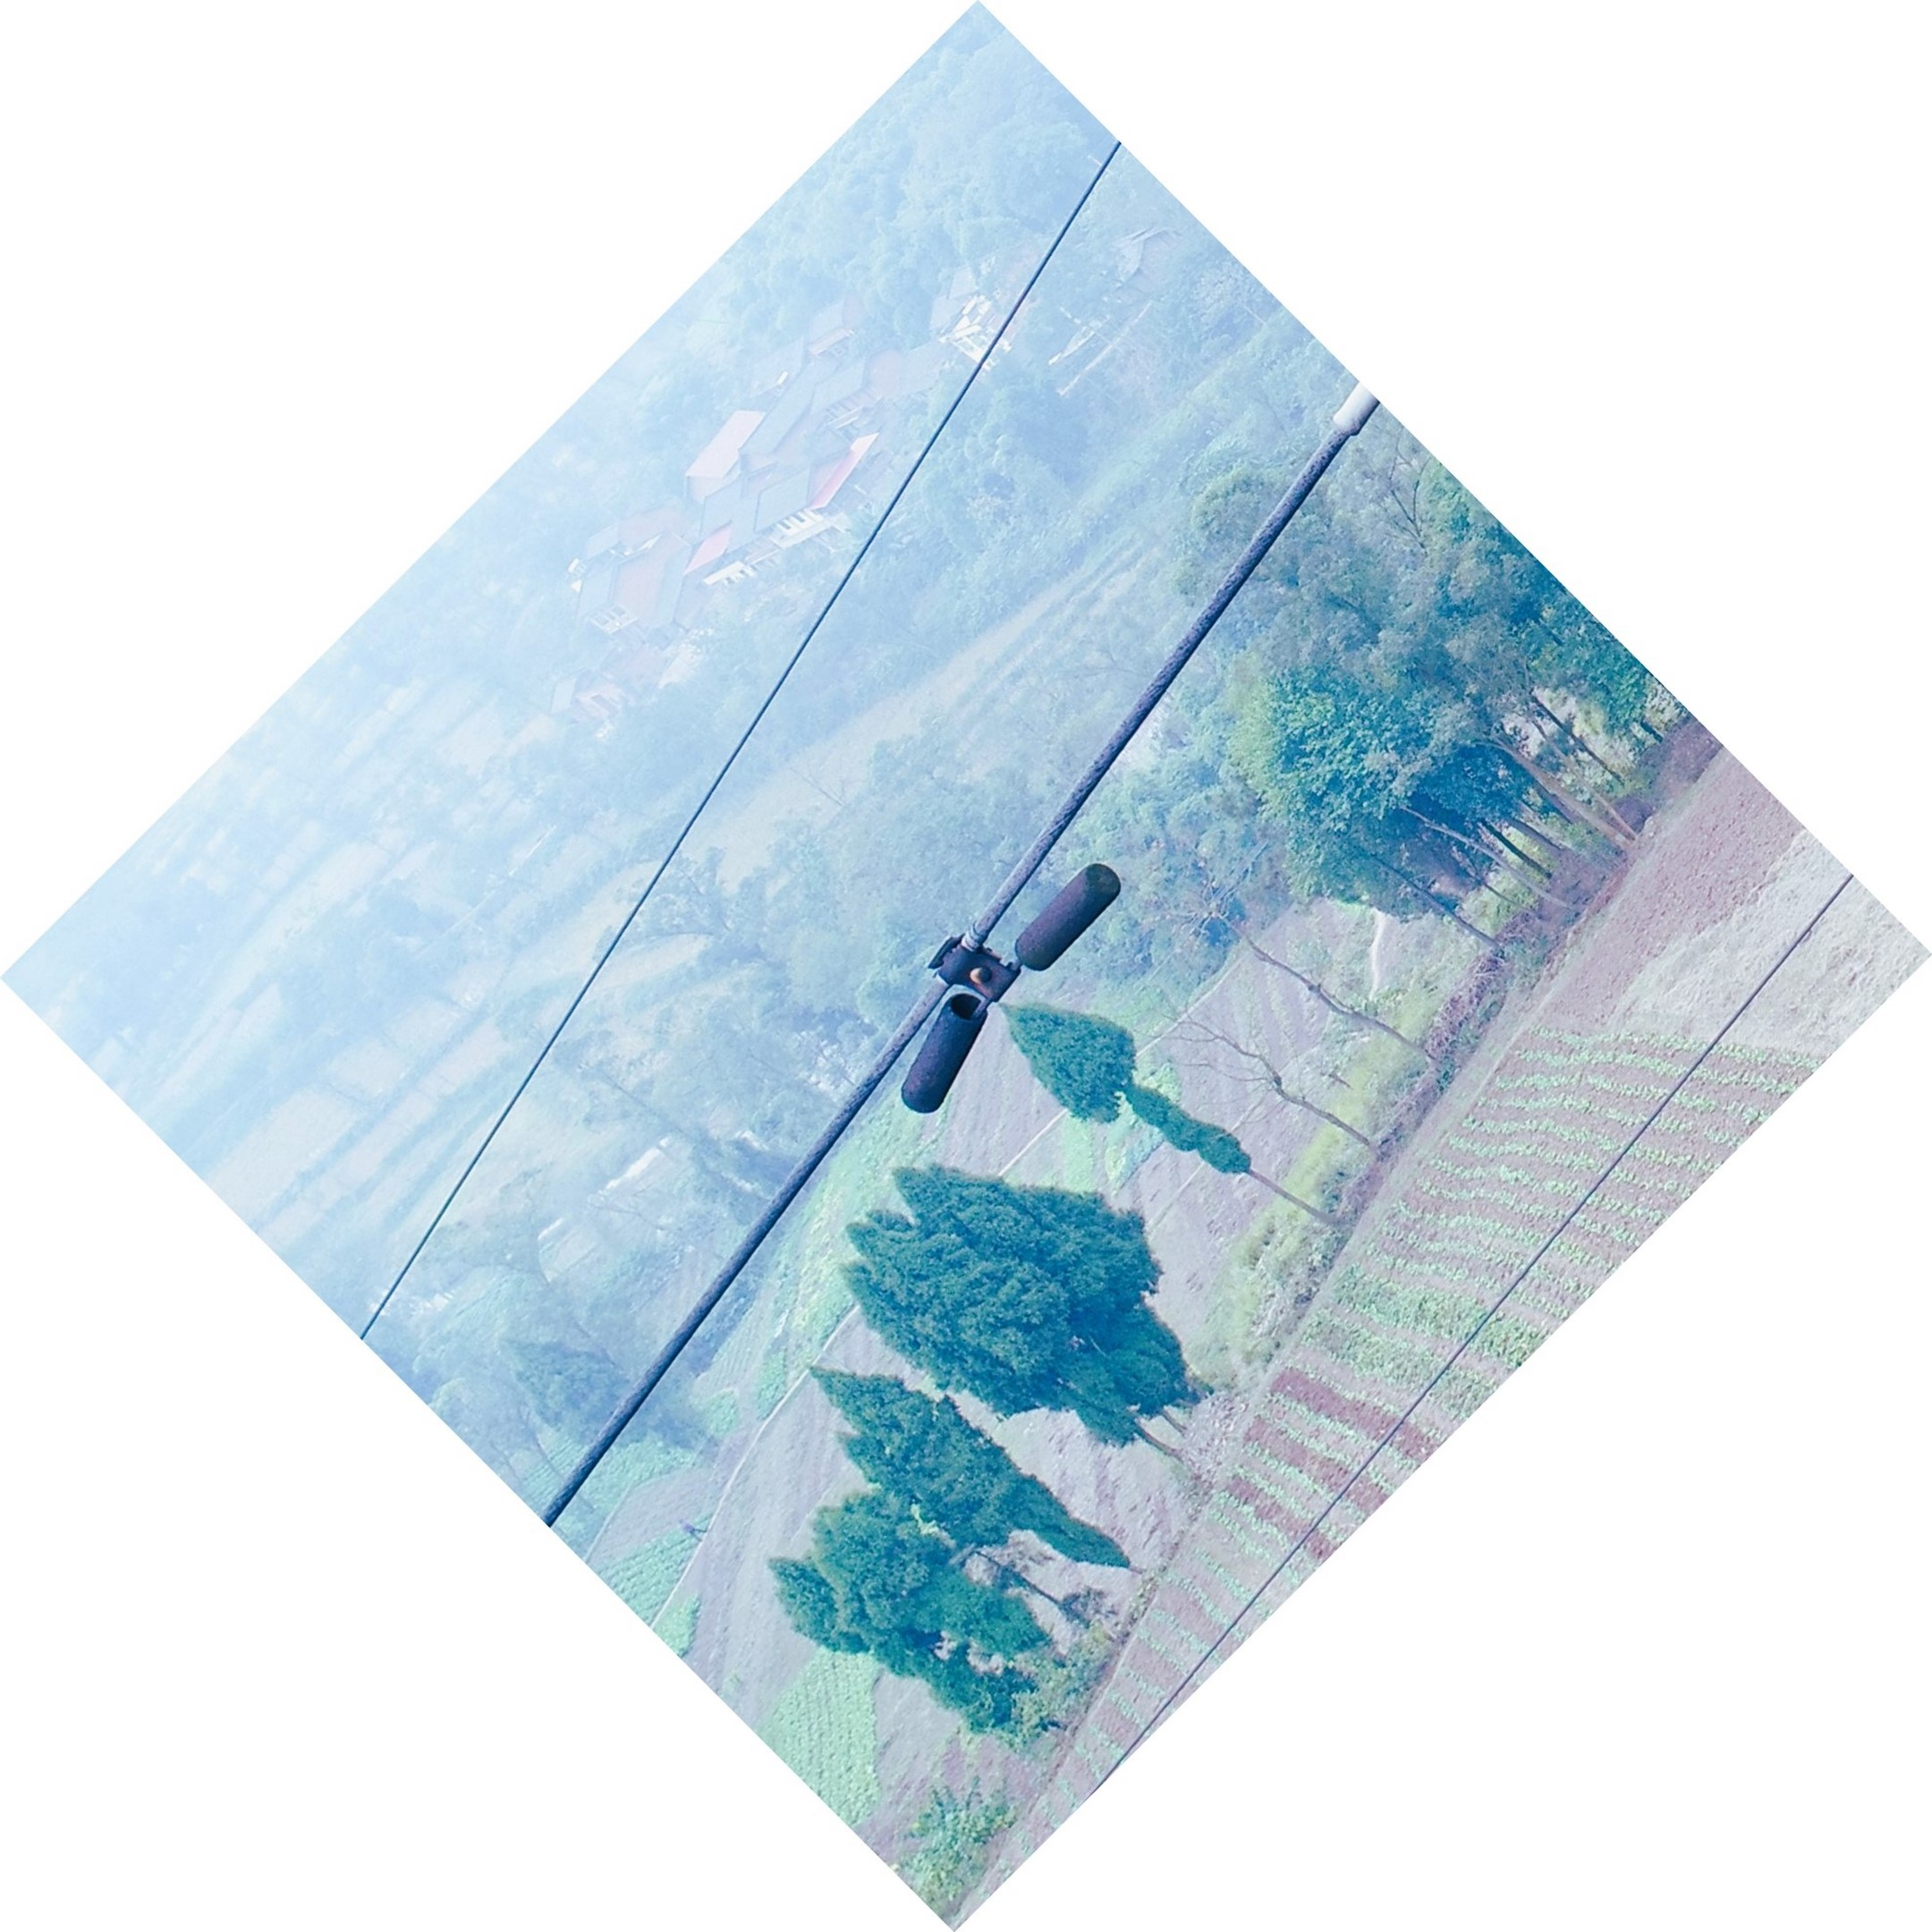Shockproof hammer: (885, 846, 1129, 1136)
